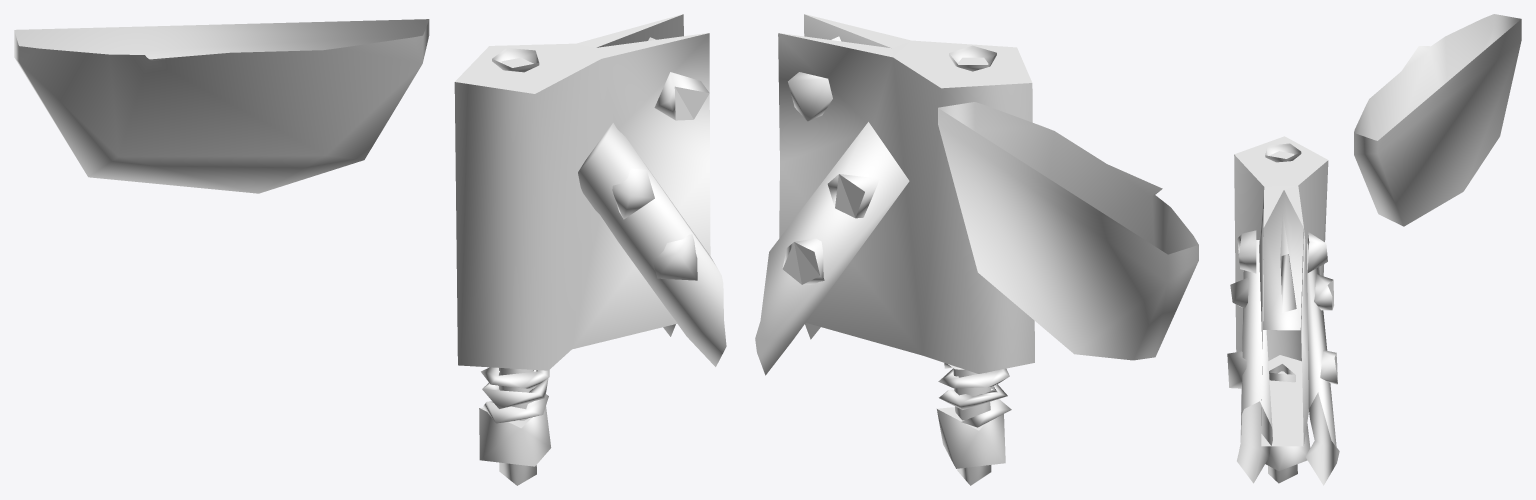
The picture shows the model from 3 angles, left to right: view 1: azimuth 30°, elevation 25°; view 2: azimuth 150°, elevation 25°; view 3: azimuth 270°, elevation 25°; orthographic projection. The views are drawn at different scales.
Bounding box in the file's own units: 0.2616 × 0.1935 × 0.1584.
1 material, 1 textured.
